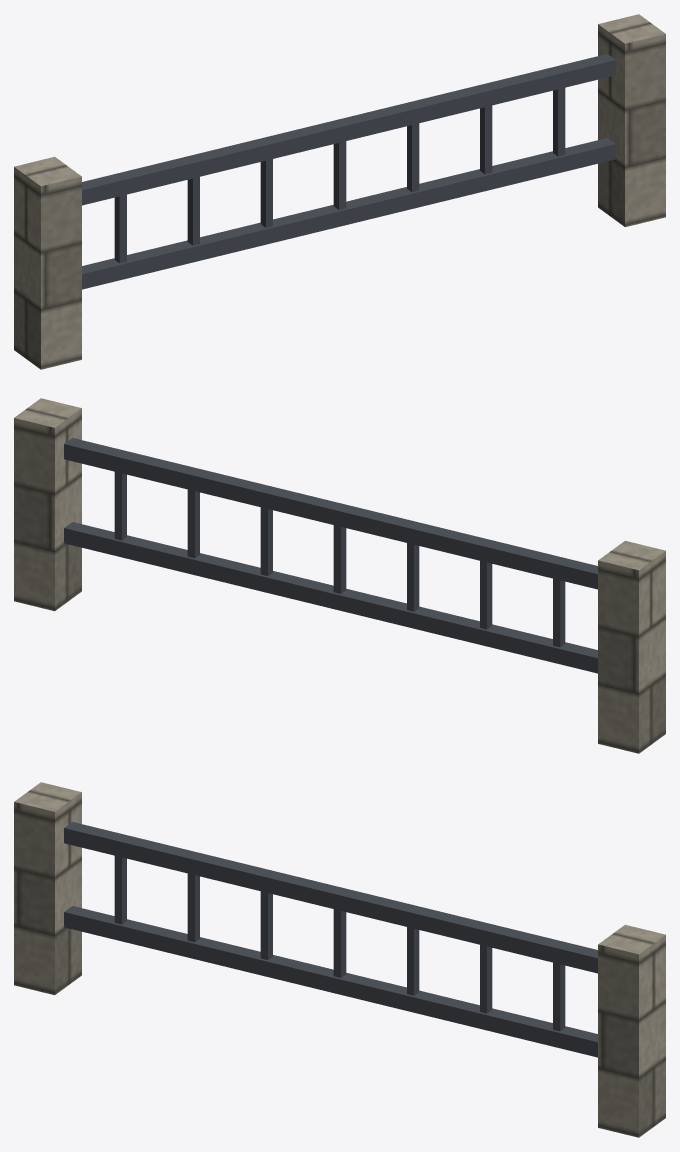
Rendered from ENV_C_RiverRail_4m.fbx.
3 renders of one model, top to bottom at view 1: azimuth 30°, elevation 25°; view 2: azimuth 150°, elevation 25°; view 3: azimuth 330°, elevation 25°, orthographic.
Visible parts, largest first — view 1: ENV_C_RiverRail_4m; view 2: ENV_C_RiverRail_4m; view 3: ENV_C_RiverRail_4m.
Part boxes in pixels (left/top/right/bottom): ENV_C_RiverRail_4m: left=14, top=14, right=665, bottom=369; ENV_C_RiverRail_4m: left=14, top=398, right=665, bottom=753; ENV_C_RiverRail_4m: left=14, top=782, right=665, bottom=1137.
Bounding box in the file's own units: 428 × 120 × 32.
Materials: 2 (1 with a texture image).
